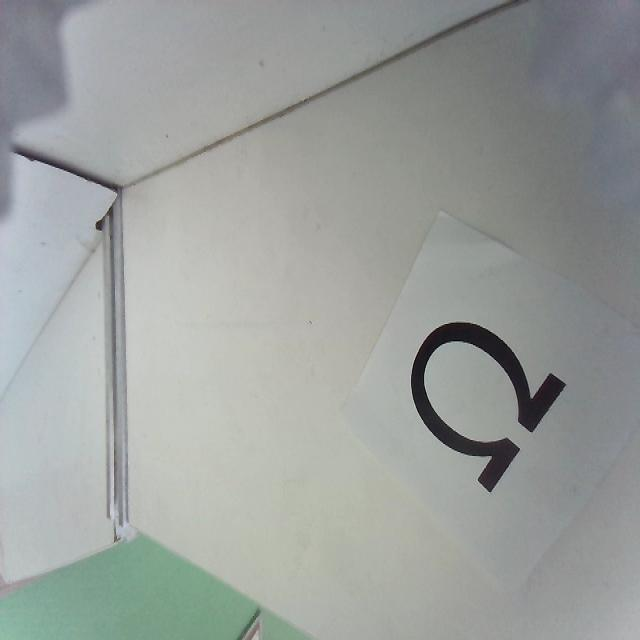OM: (410, 319, 569, 495)
